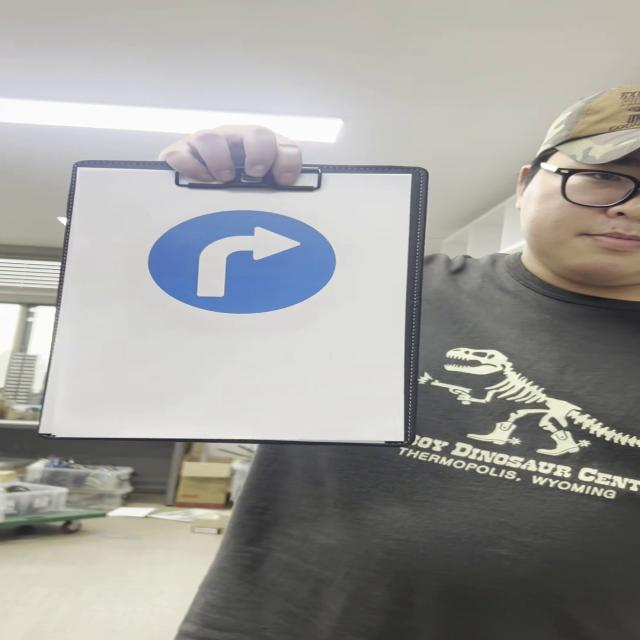right: (142, 210, 340, 315)
